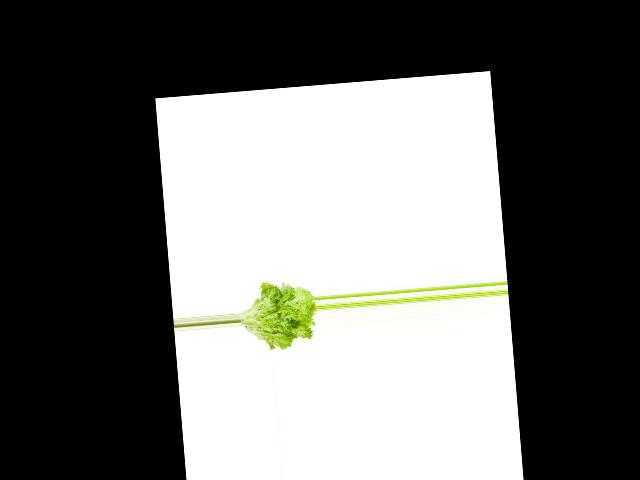lettuce: (235, 277, 319, 356)
